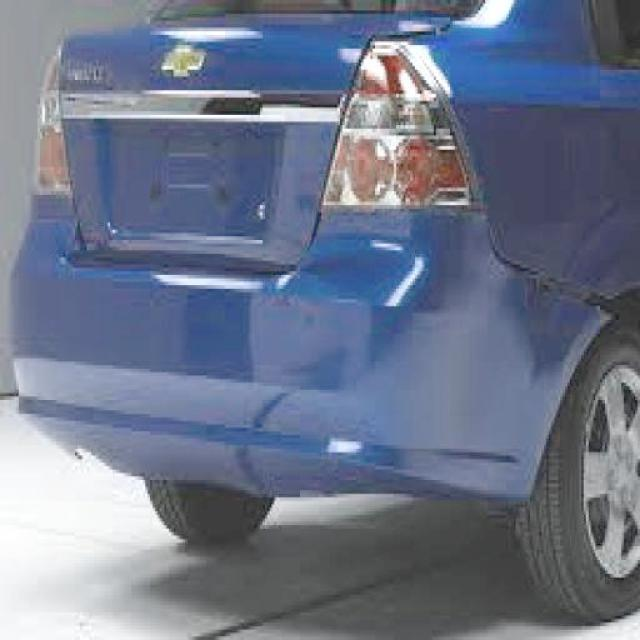car damage: (435, 200, 613, 328)
